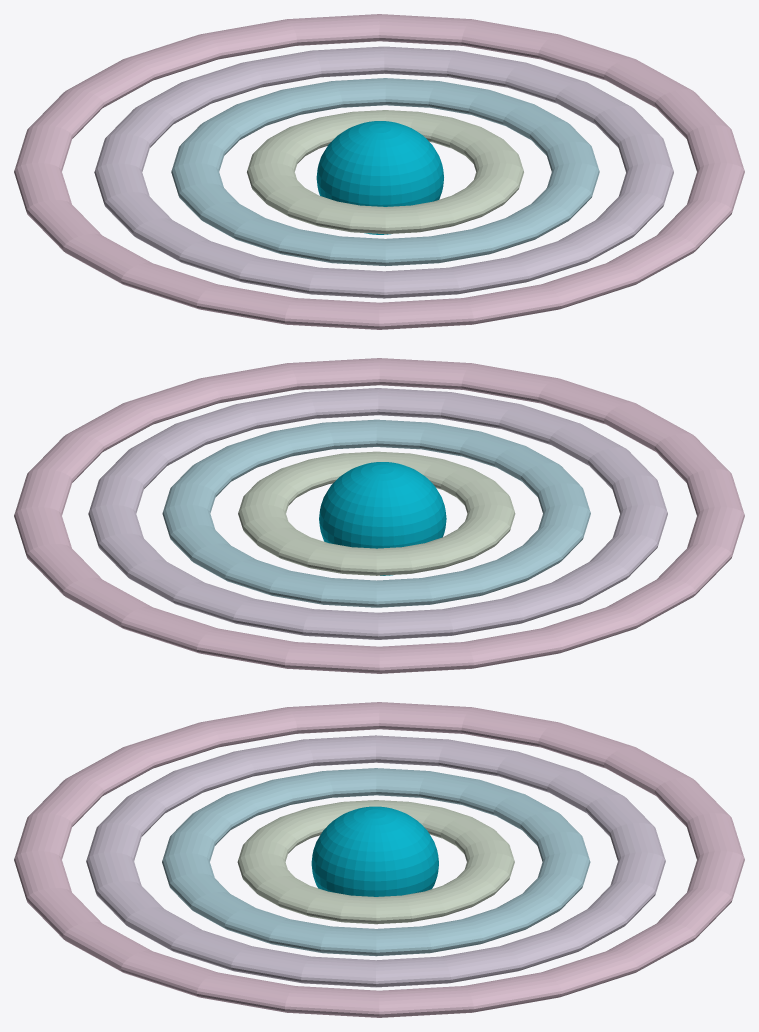
The model's file is erinplanetrings.glb.
3 views of the same model, one above another, from view 1: azimuth 30°, elevation 25°; view 2: azimuth 150°, elevation 25°; view 3: azimuth 270°, elevation 25° (orthographic).
Parts seen in each view (by area): view 1: Mesh_Mesh_head_geo.001_lambert2SG.001; view 2: Mesh_Mesh_head_geo.001_lambert2SG.001; view 3: Mesh_Mesh_head_geo.001_lambert2SG.001.
Part boxes in pixels (x1=…): Mesh_Mesh_head_geo.001_lambert2SG.001: x1=14, y1=14, x2=744, y2=329; Mesh_Mesh_head_geo.001_lambert2SG.001: x1=14, y1=358, x2=744, y2=673; Mesh_Mesh_head_geo.001_lambert2SG.001: x1=14, y1=702, x2=744, y2=1017.
Bounding box in the file's own units: 132 × 20 × 132.
